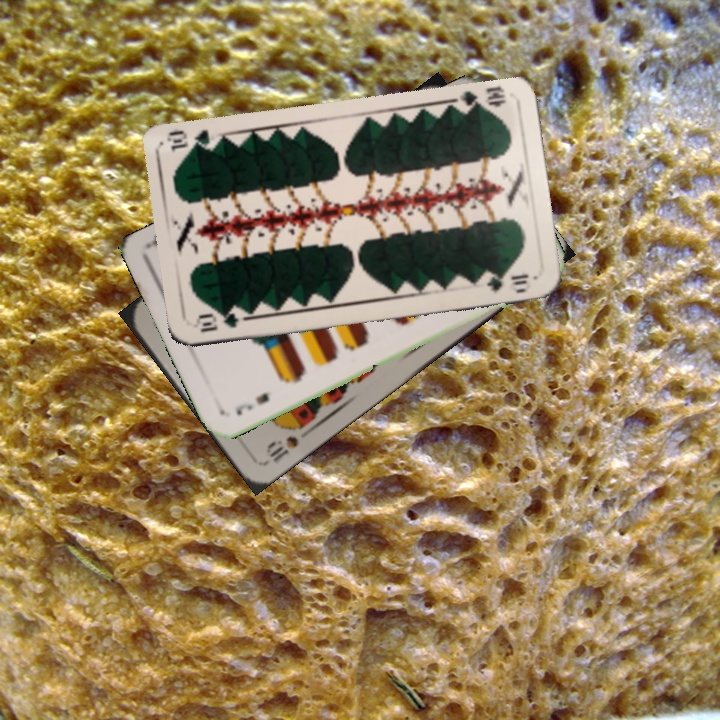E7: (231, 388, 272, 418)
G10: (453, 84, 509, 116), (190, 308, 242, 335)
S10: (262, 419, 308, 466)
